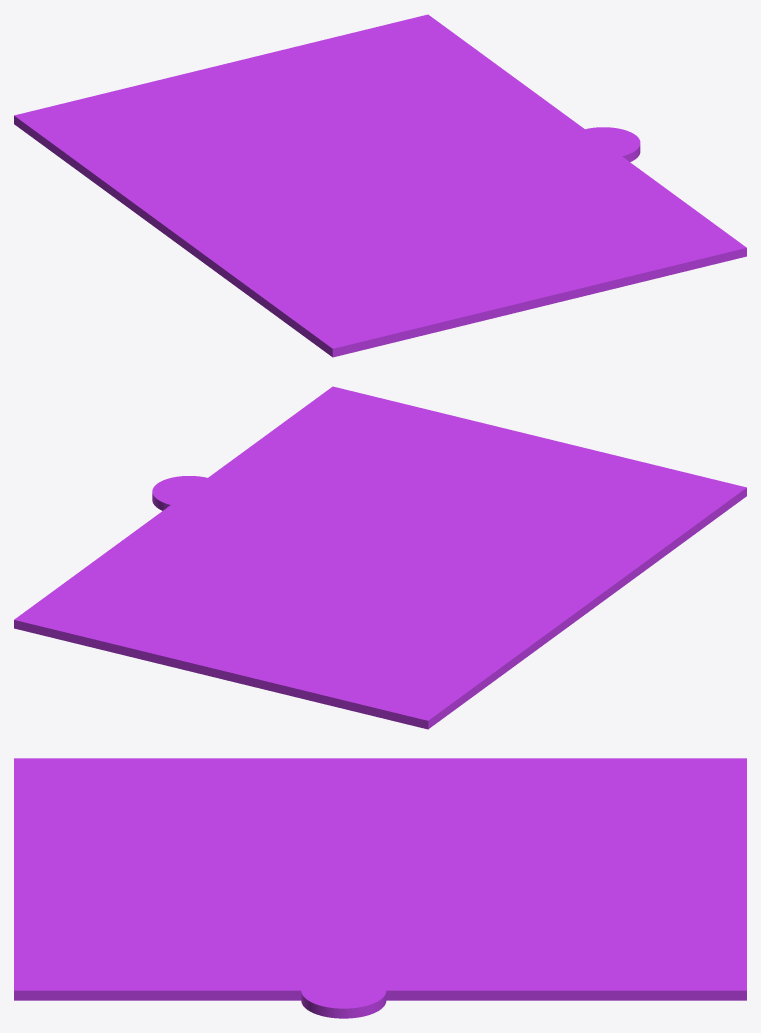
The model's file is s-suelo.gltf.
3 renders of one model, top to bottom at view 1: azimuth 30°, elevation 25°; view 2: azimuth 150°, elevation 25°; view 3: azimuth 270°, elevation 25°, orthographic. The views are drawn at different scales.
Parts seen in each view (by area): view 1: Object_12; view 2: Object_12; view 3: Object_12.
Part boxes in pixels (x1,y1,x2,y2): Object_12: (14, 14, 746, 357); Object_12: (14, 386, 746, 729); Object_12: (14, 758, 746, 1018).
Bounding box in the file's own units: 16.16 × 0.3 × 20.
